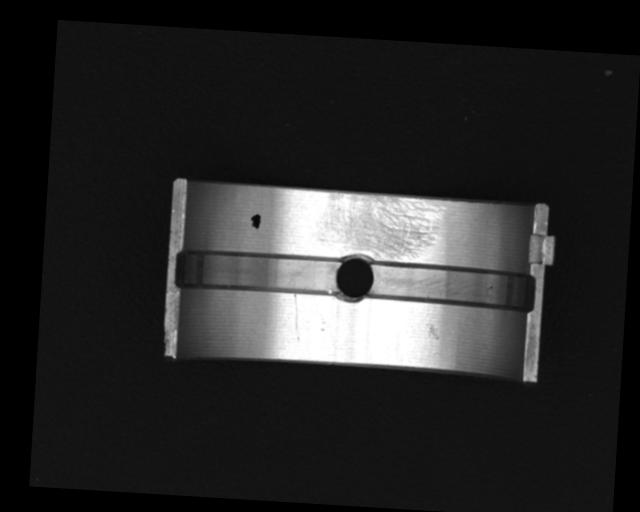blot: (248, 212, 262, 230)
bruise: (426, 324, 442, 341)
gap: (365, 260, 537, 311), (174, 246, 342, 297)
hole: (332, 250, 375, 307)
nick: (291, 293, 301, 332)
scratch: (313, 191, 444, 263)
